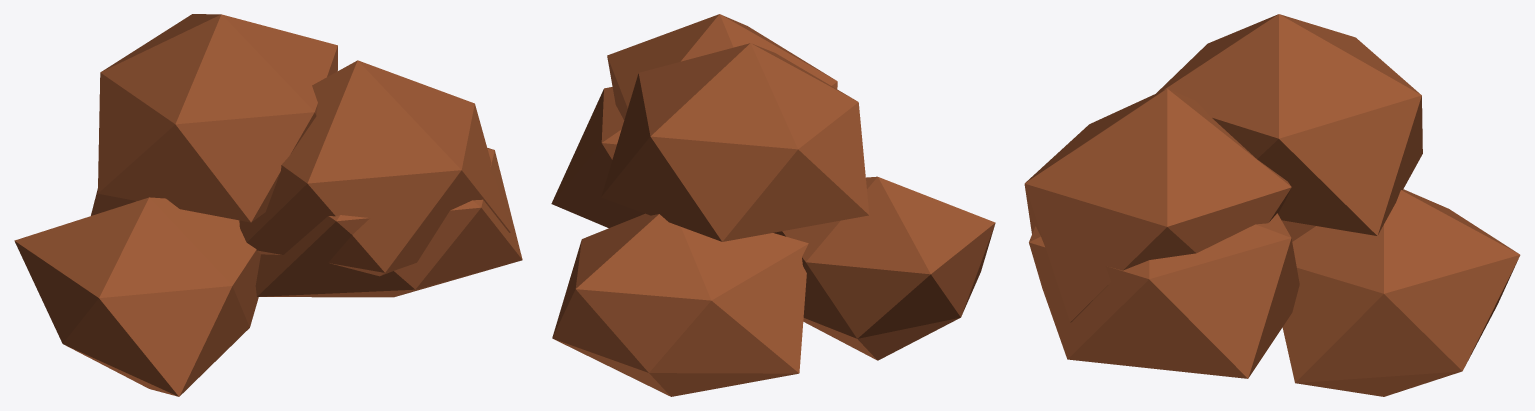
Rendered from tree_rustwood_m_crown.fbx.
The picture shows the model from 3 angles, left to right: view 1: azimuth 30°, elevation 25°; view 2: azimuth 150°, elevation 25°; view 3: azimuth 270°, elevation 25°; orthographic projection. The views are drawn at different scales.
Visible parts, largest first — view 1: tree_rustwood_m_crown; view 2: tree_rustwood_m_crown; view 3: tree_rustwood_m_crown.
Part boxes in pixels (bbox=[...]): tree_rustwood_m_crown: bbox=[14, 14, 522, 396]; tree_rustwood_m_crown: bbox=[551, 14, 995, 396]; tree_rustwood_m_crown: bbox=[1024, 14, 1520, 396].
Size of the model in its own units: 1864 by 1447 by 1781.
